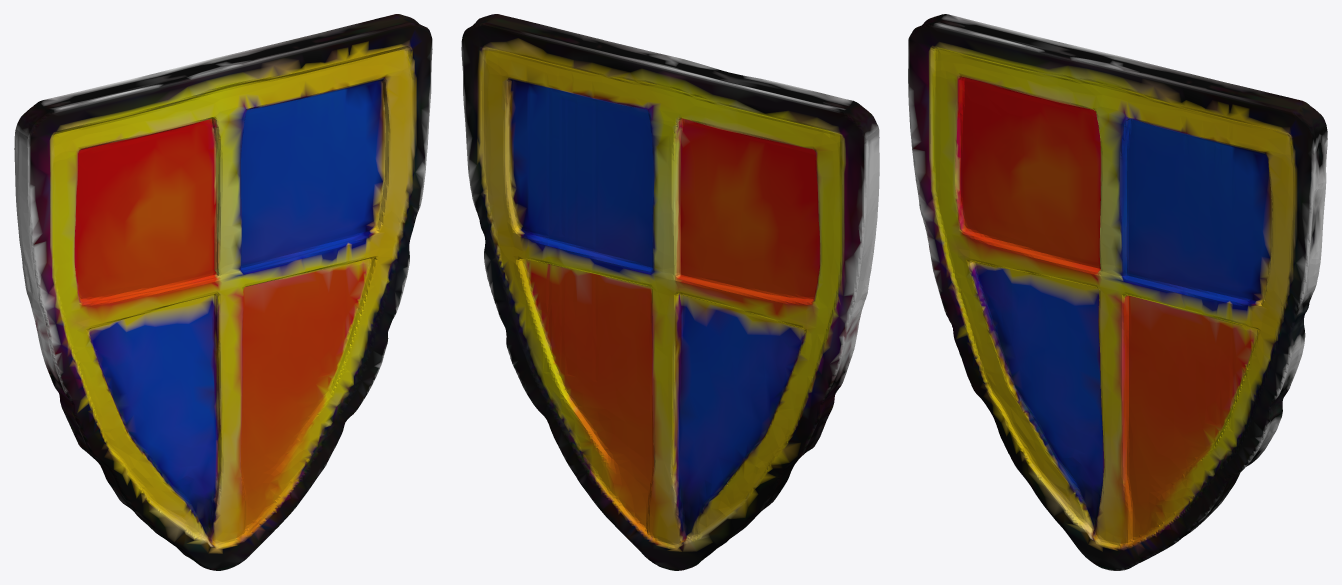
File: uw_shield.glb
The picture shows the model from 3 angles, left to right: view 1: azimuth 30°, elevation 25°; view 2: azimuth 150°, elevation 25°; view 3: azimuth 330°, elevation 25°; orthographic projection.
Parts seen in each view (by area): view 1: geometry_0; view 2: geometry_0; view 3: geometry_0.
Part boxes in pixels (x1,y1,x2,y2): geometry_0: (14,14,432,570); geometry_0: (461,14,879,570); geometry_0: (908,14,1327,570).
Bounding box in the file's own units: 0.5312 × 0.6278 × 0.0336.
